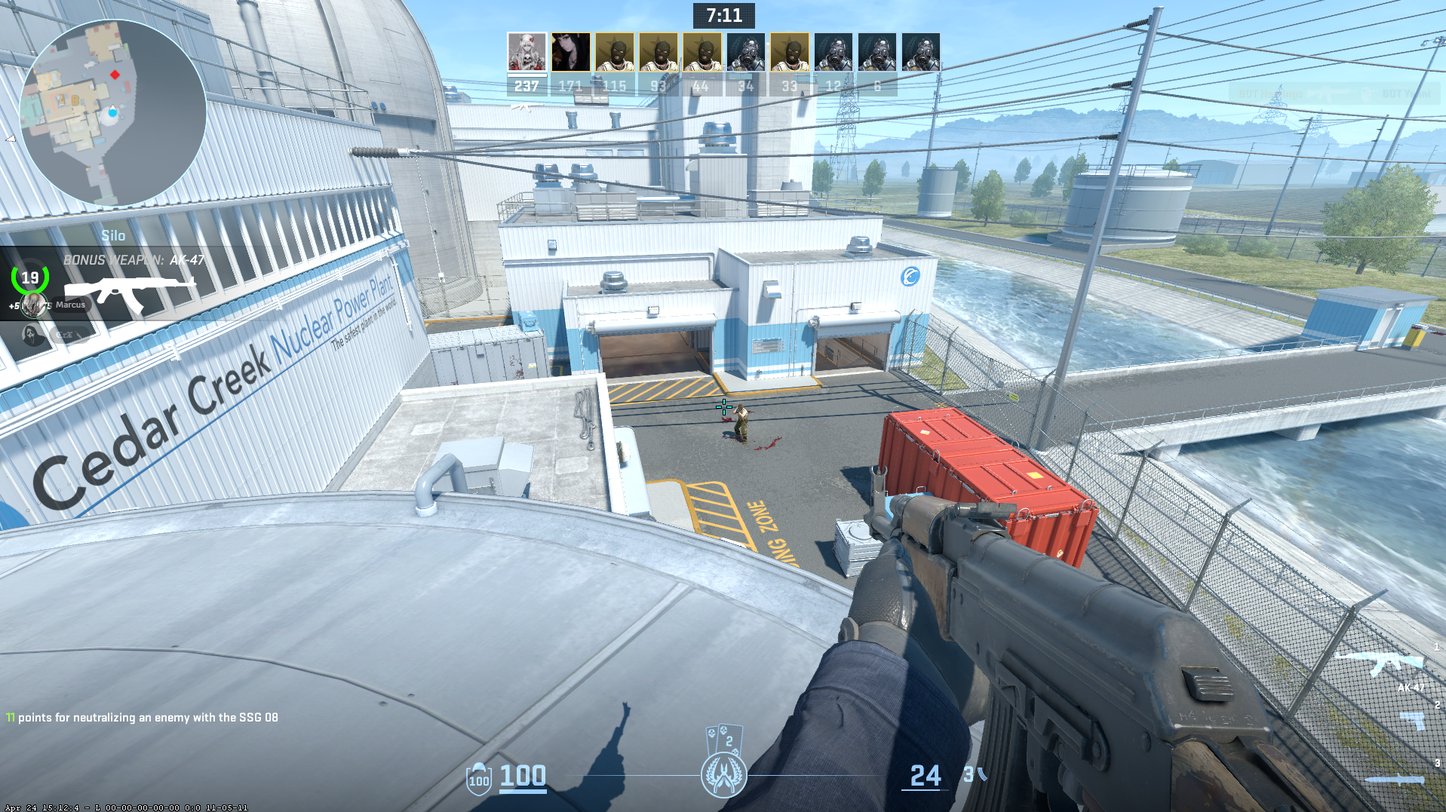T: (733, 403, 748, 445)
